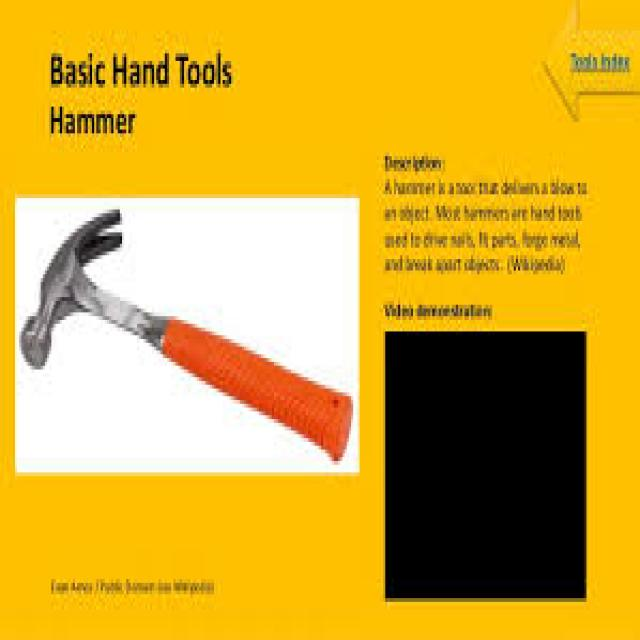hammer: (15, 192, 361, 471)
